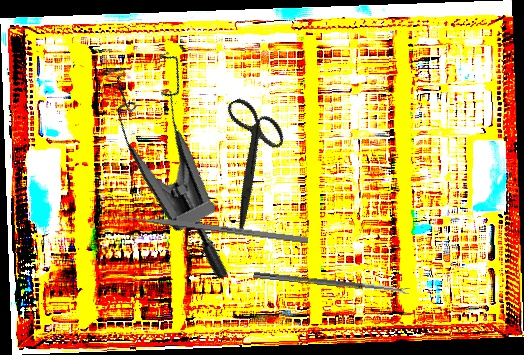Iris Scissors: (185, 87, 315, 235)
Pusher: (105, 211, 309, 244)
Speculum: (66, 29, 307, 285)
Surgical Spoon: (253, 271, 410, 296)
